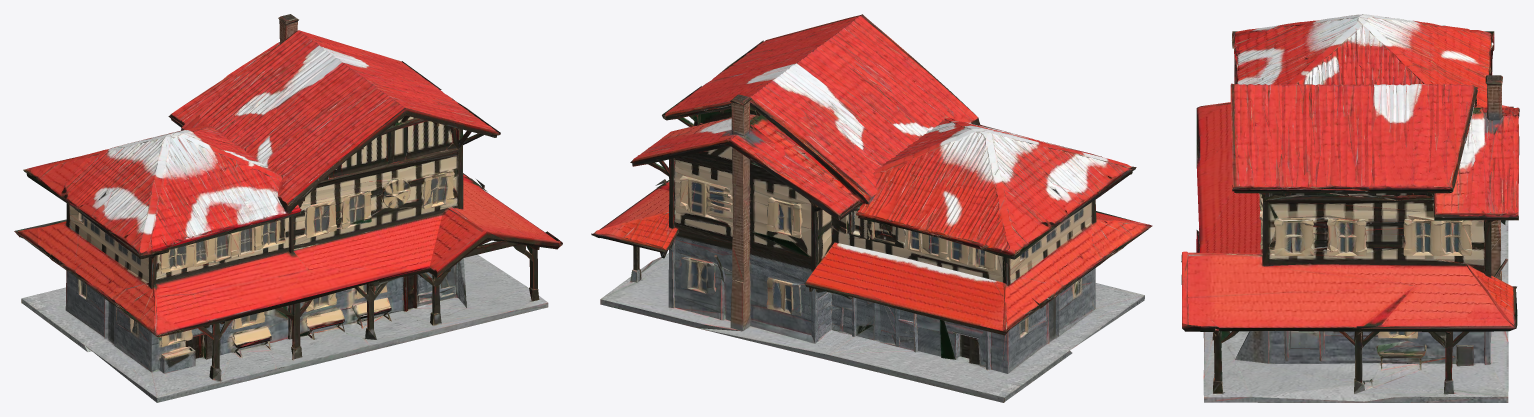
File: bus_terminal.glb
3 renders of one model, left to right at view 1: azimuth 30°, elevation 25°; view 2: azimuth 150°, elevation 25°; view 3: azimuth 270°, elevation 25°, orthographic. The views are drawn at different scales.
Size of the model in its own units: 1.9 by 1.03 by 1.24.
1 material, 1 textured.
